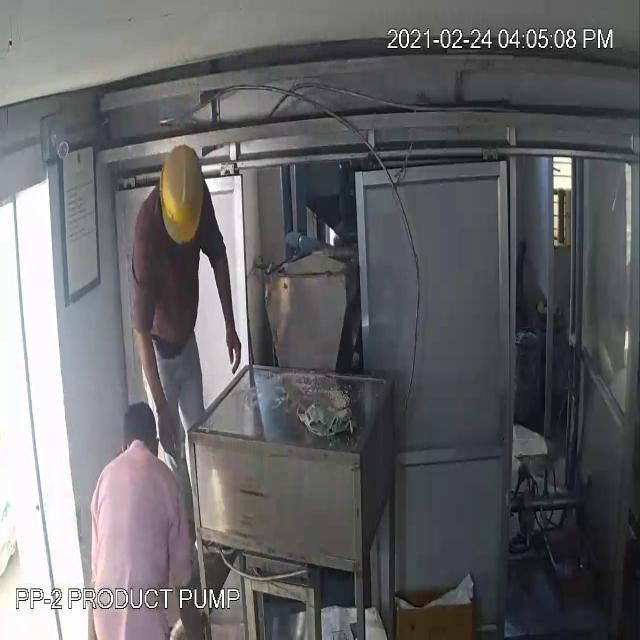helmet: (159, 145, 204, 249)
